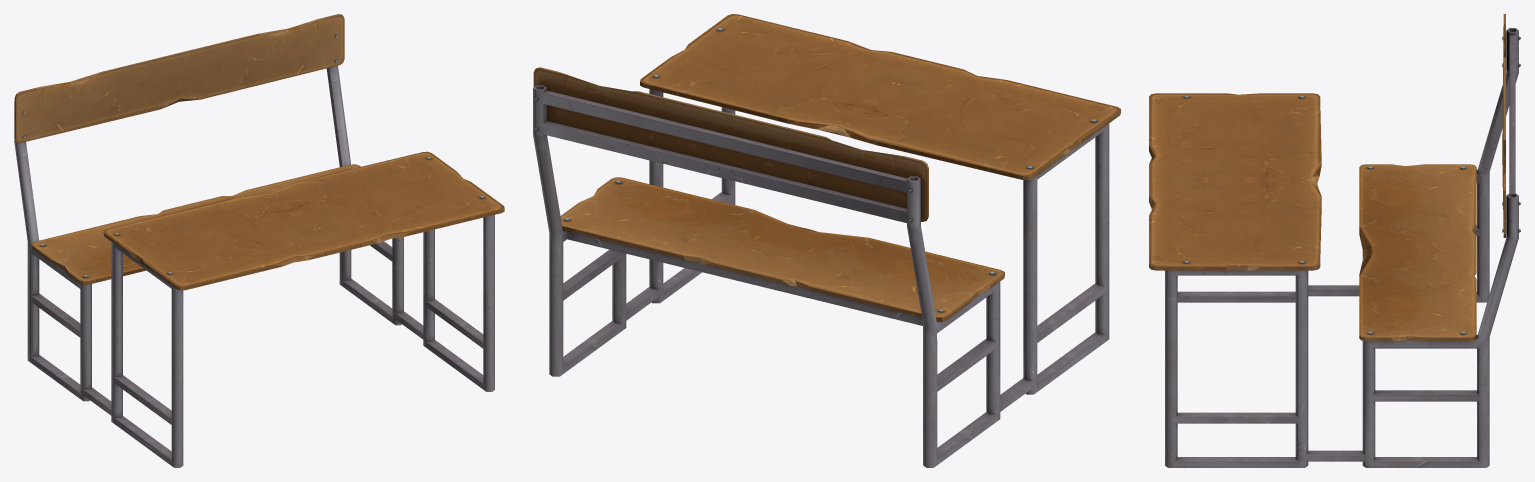
File: Desk 4.obj
3 views of the same model, side by side, from view 1: azimuth 30°, elevation 25°; view 2: azimuth 150°, elevation 25°; view 3: azimuth 270°, elevation 25° (orthographic). The views are drawn at different scales.
Parts seen in each view (by area): view 1: Desk_4; view 2: Desk_4; view 3: Desk_4.
Boxes of the visible parts, box(x1,y1,x2,y2) form: Desk_4: box(14, 14, 504, 467); Desk_4: box(533, 14, 1120, 467); Desk_4: box(1149, 14, 1520, 467).
Size of the model in its own units: 8.43 by 6.42 by 7.61.
